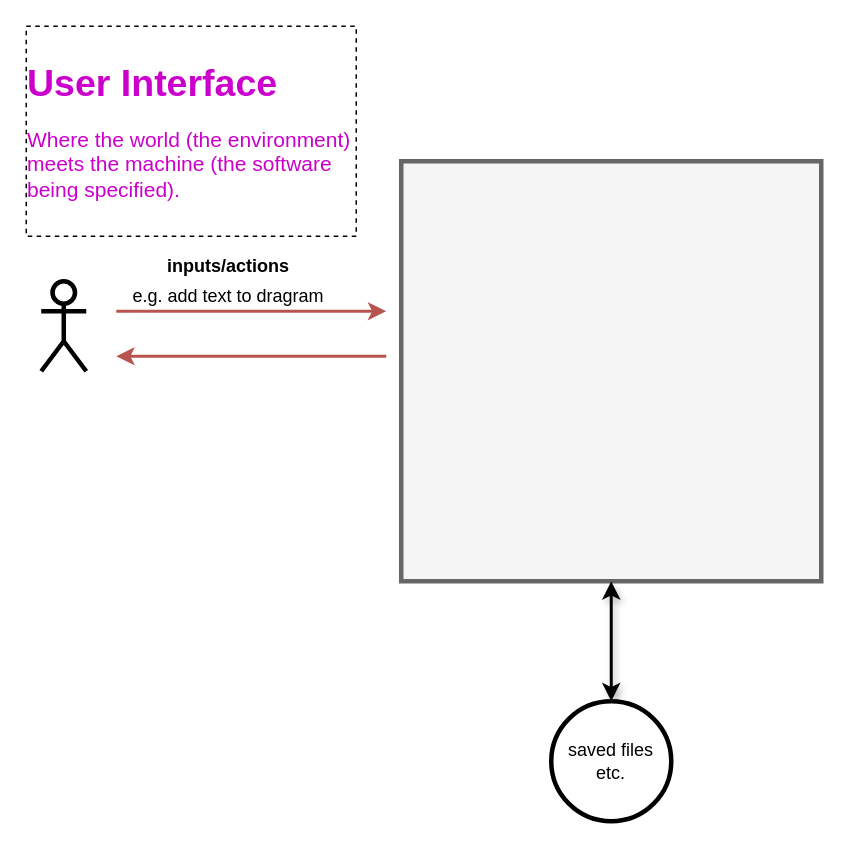
This 849x849 diagram has some shape labels left out. Each missing label, with the centre of its shape:
User: the point at 63,325
VennCreate(Software System Under Description): the point at 610,370
